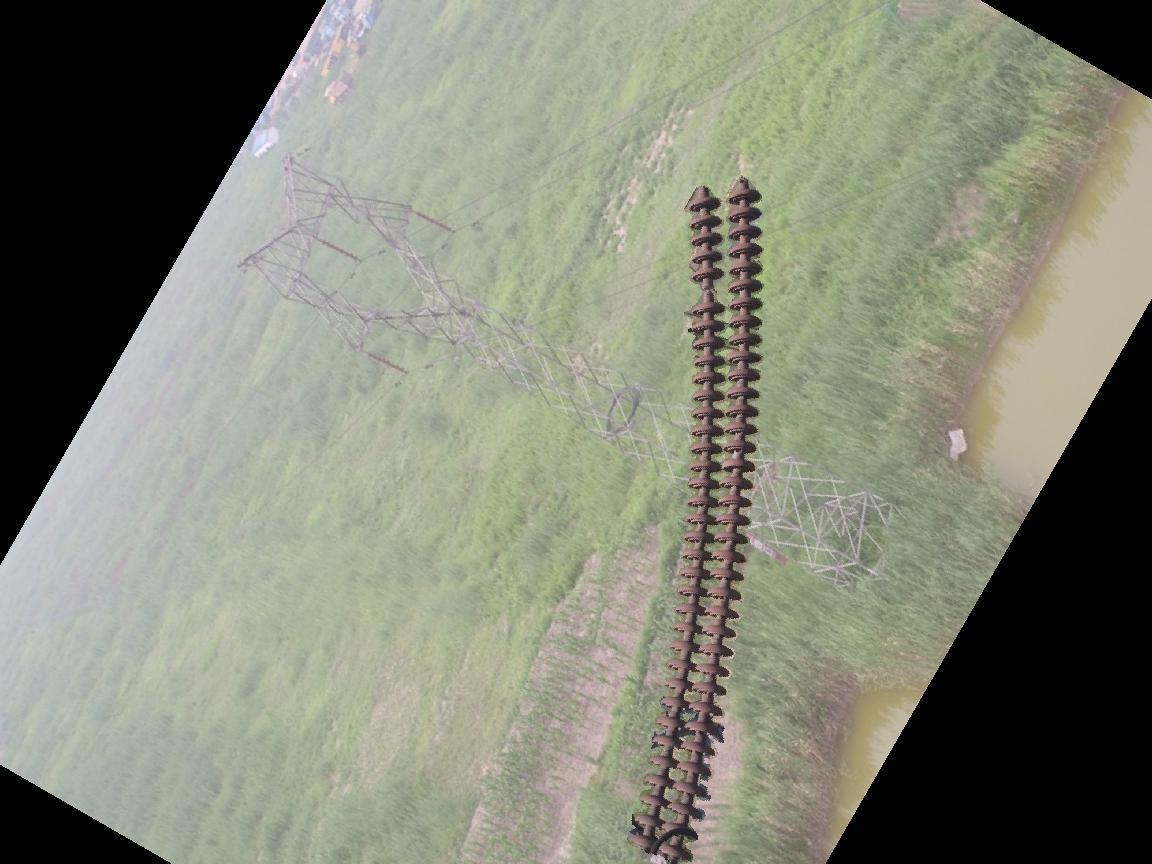insulator: (623, 178, 774, 861), (359, 346, 408, 378), (410, 206, 458, 238), (314, 236, 363, 267)
insulator_stringdrop: (687, 261, 728, 320)
